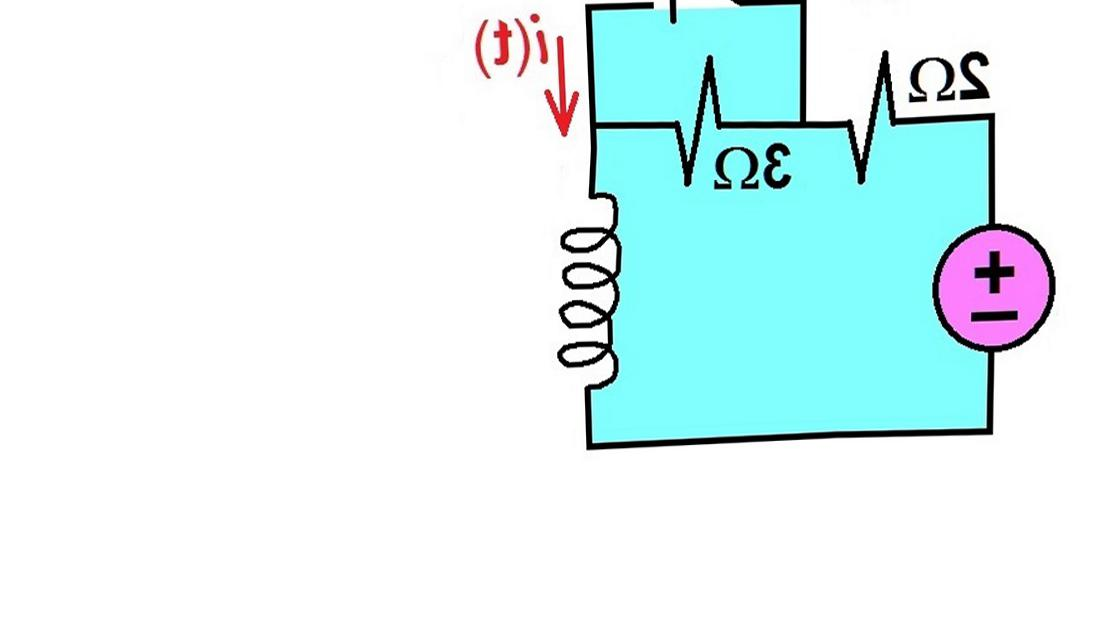Battery: (886, 203, 1096, 370)
